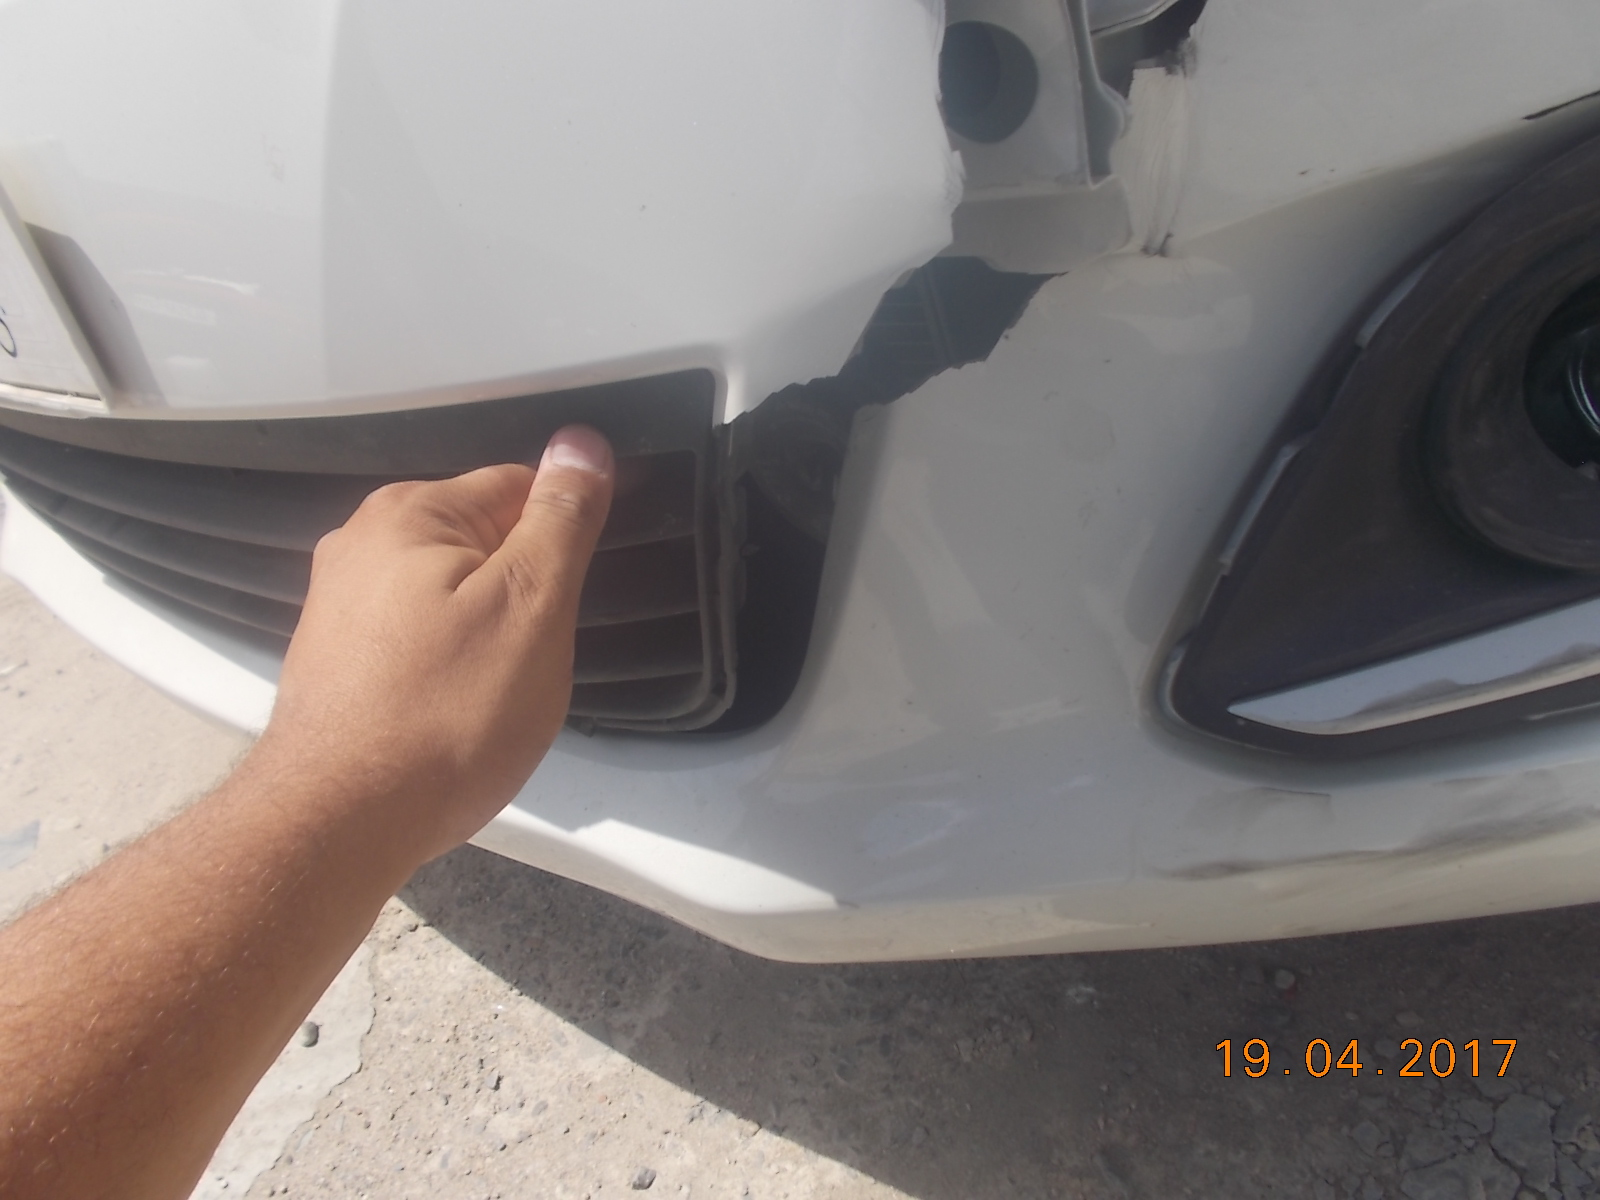Tear: (717, 256, 1052, 498)
